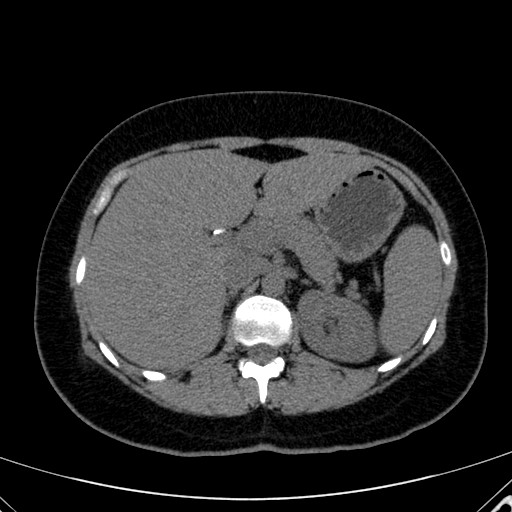clipe: (213, 229, 225, 236)
